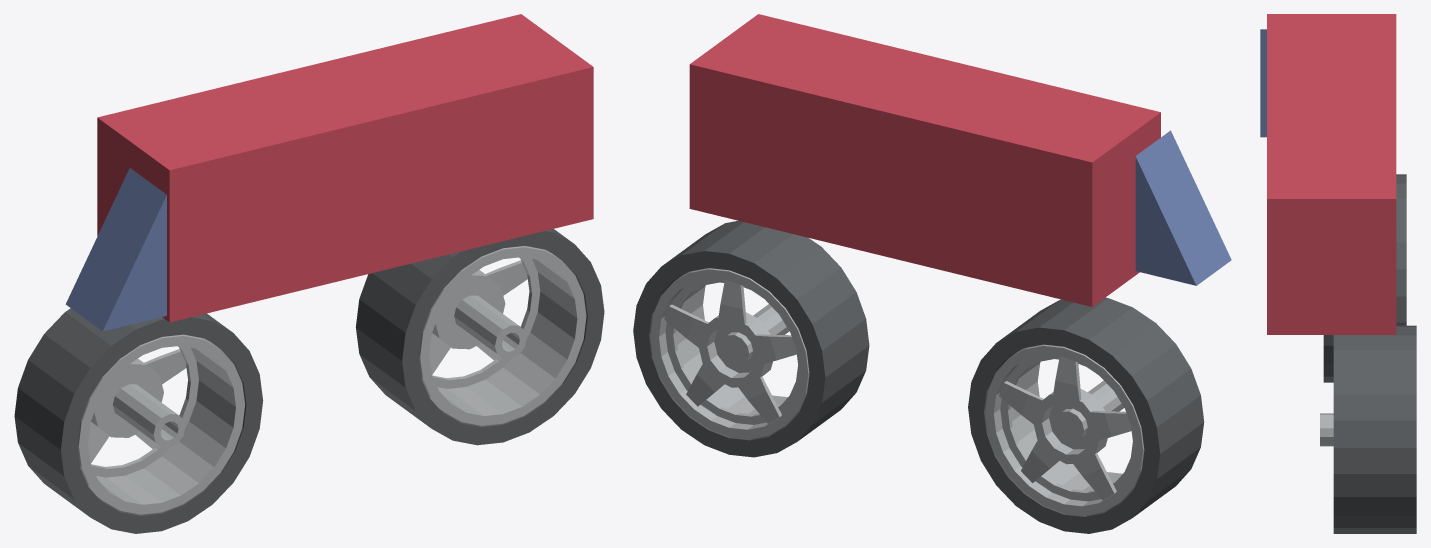
Rendered from Bodacious Bruticus-Rottis (1).glb.
3 views of the same model, side by side, from view 1: azimuth 30°, elevation 25°; view 2: azimuth 150°, elevation 25°; view 3: azimuth 270°, elevation 25° (orthographic). The views are drawn at different scales.
Parts seen in each view (by area): view 1: Mesh_Mesh_head_geo.001_lambert2SG.001; view 2: Mesh_Mesh_head_geo.001_lambert2SG.001; view 3: Mesh_Mesh_head_geo.001_lambert2SG.001.
Part boxes in pixels (box(x1,y1,x2,y2)): Mesh_Mesh_head_geo.001_lambert2SG.001: box(14, 14, 604, 533); Mesh_Mesh_head_geo.001_lambert2SG.001: box(633, 14, 1231, 533); Mesh_Mesh_head_geo.001_lambert2SG.001: box(1260, 14, 1416, 533).
Size of the model in its own units: 171 by 116 by 47.1.
